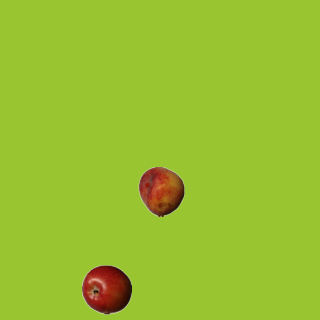Apple Braeburn: (81, 264, 131, 314)
Peach: (136, 166, 186, 216)
